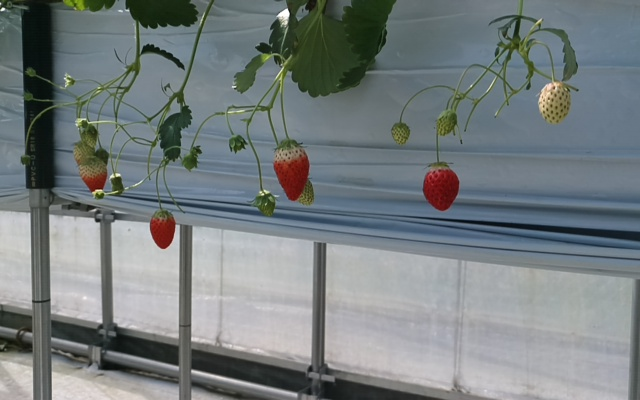GreenStrawberry: (536, 79, 572, 128), (76, 154, 108, 200), (252, 190, 279, 218), (436, 108, 458, 140), (298, 182, 318, 206), (390, 123, 410, 146)
MatureStrawberry: (270, 140, 310, 202), (420, 162, 460, 214), (149, 209, 178, 250)
